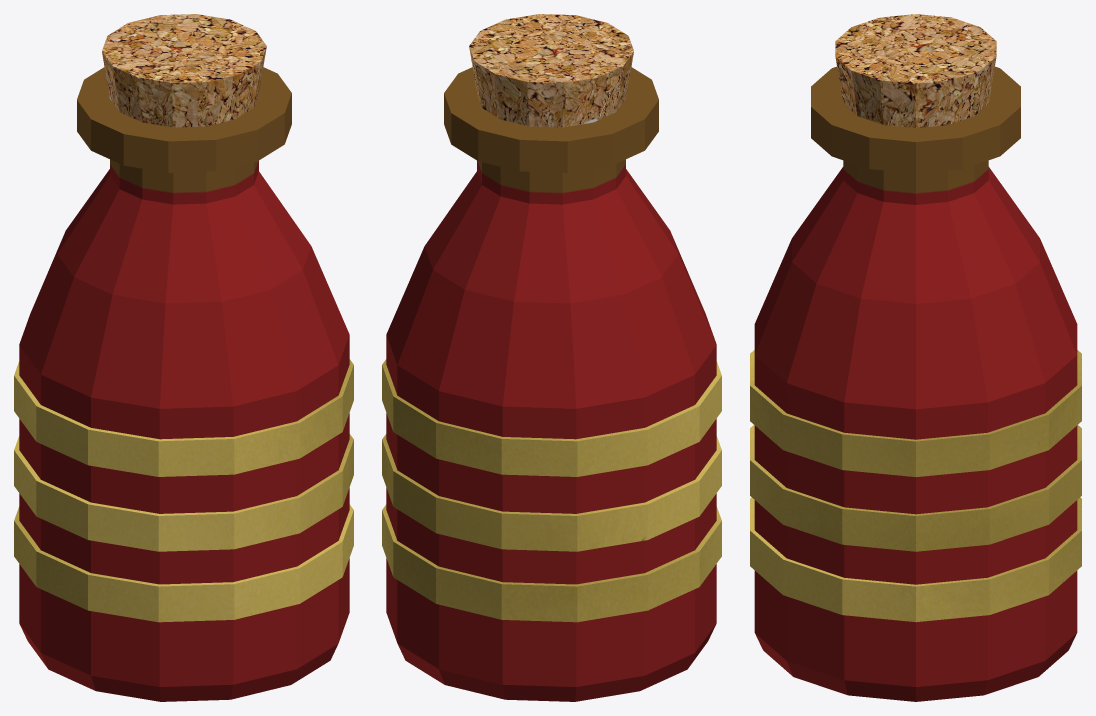
File: potion.fbx
3 renders of one model, left to right at view 1: azimuth 30°, elevation 25°; view 2: azimuth 150°, elevation 25°; view 3: azimuth 270°, elevation 25°, orthographic.
Visible parts, largest first — view 1: polySurface2; view 2: polySurface2; view 3: polySurface2.
Part boxes in pixels (bbox=[...]): polySurface2: bbox=[14, 14, 353, 701]; polySurface2: bbox=[382, 14, 721, 701]; polySurface2: bbox=[750, 14, 1081, 701].
Size of the model in its own units: 5.27 by 10.17 by 5.14.
